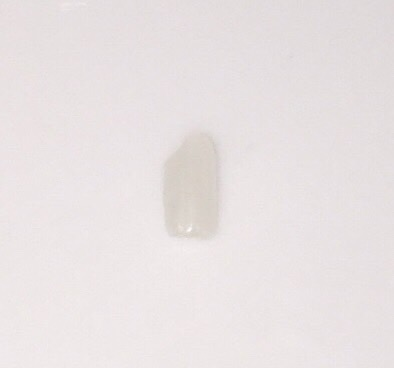Gao Tam: (157, 128, 225, 241)
